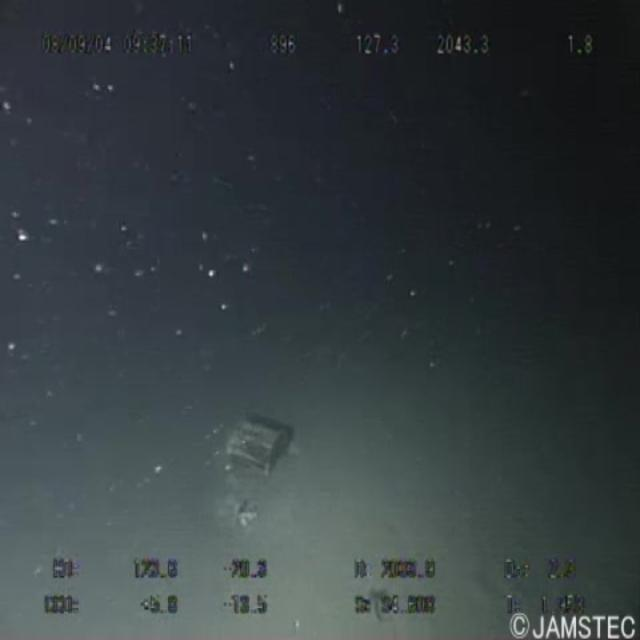Metal: (217, 400, 309, 496)
